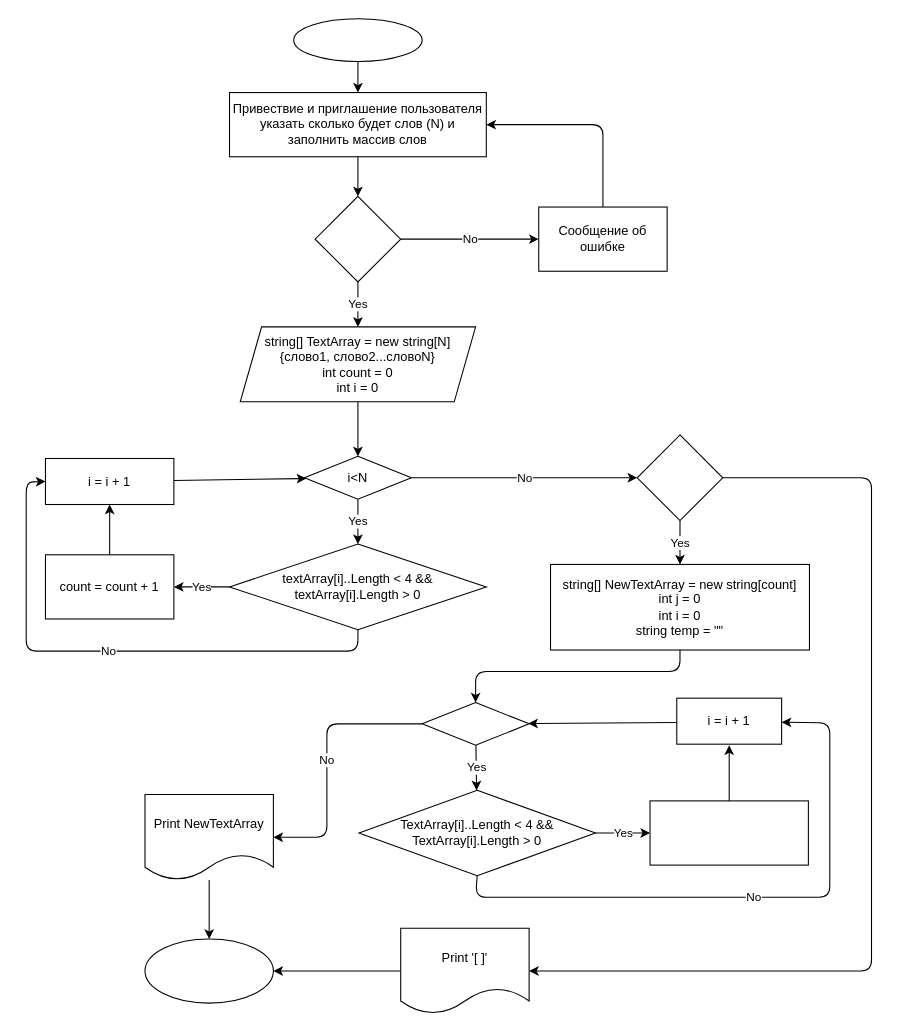
The diagram is 899 pixels wide and 1033 high, and some of its shapes have lost their labels. The centre of each missing label's shape, as x and y in pixels:
"count > 0" belongs at (x=679, y=477).
"End" belongs at (x=208, y=970).
"i<count" belongs at (x=475, y=723).
"N>0" belongs at (x=357, y=238).
"Start" belongs at (x=357, y=40).
"temp = TextArray[i] NewTextArray[j] = temp j = j +1" belongs at (x=728, y=832).
